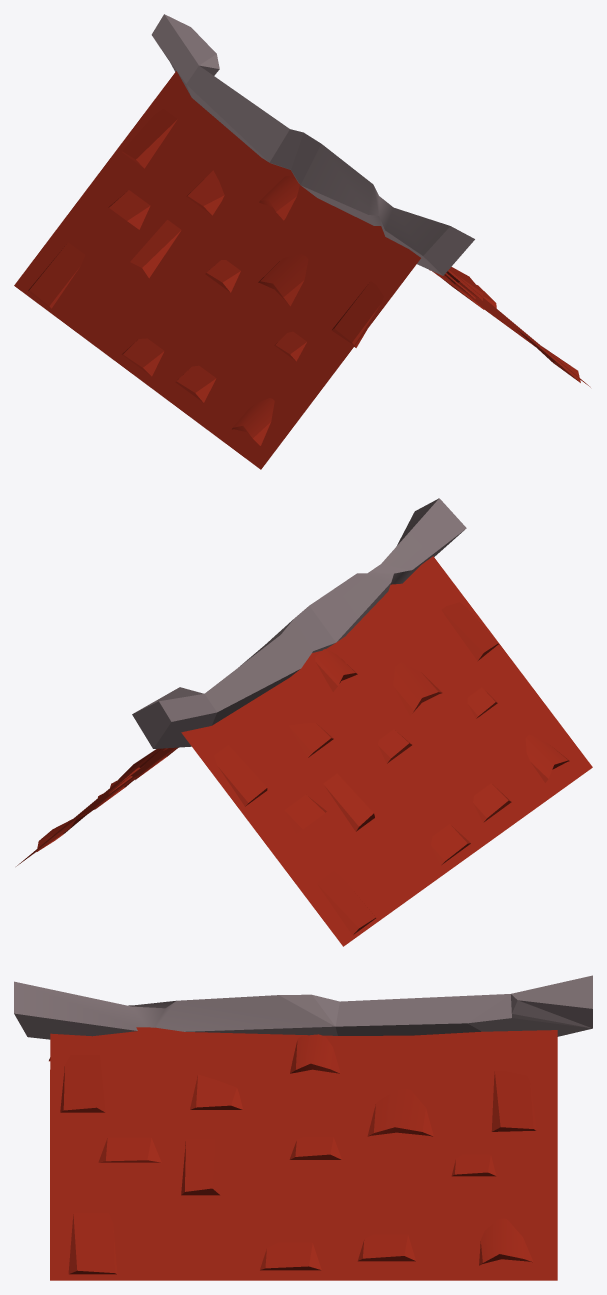
File: SM_L_R_Roof_Double.fbx
The picture shows the model from 3 angles, top to bottom: view 1: azimuth 30°, elevation 25°; view 2: azimuth 150°, elevation 25°; view 3: azimuth 270°, elevation 25°; orthographic projection. The views are drawn at different scales.
Visible parts, largest first — view 1: SM_L_R_RoofDouble; view 2: SM_L_R_RoofDouble; view 3: SM_L_R_RoofDouble.
Boxes of the visible parts, <box> form: SM_L_R_RoofDouble: <box>14,14,590,469</box>; SM_L_R_RoofDouble: <box>16,498,592,946</box>; SM_L_R_RoofDouble: <box>14,975,592,1280</box>.
Size of the model in its own units: 4.26 by 2.7 by 6.32.
1 material, 1 textured.
